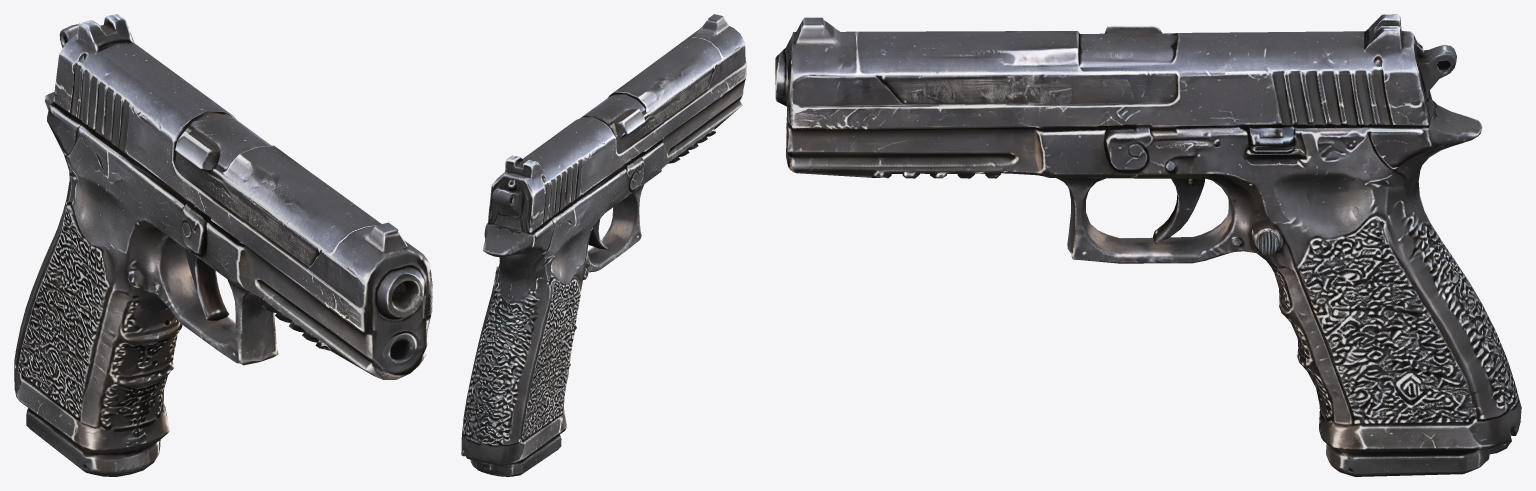
Rendered from base_basic_shaded.glb.
3 renders of one model, left to right at view 1: azimuth 30°, elevation 25°; view 2: azimuth 150°, elevation 25°; view 3: azimuth 270°, elevation 25°, orthographic. The views are drawn at different scales.
Parts seen in each view (by area): view 1: model; view 2: model; view 3: model.
Boxes of the visible parts, left/top/right/bottom form: model: left=14, top=14, right=432, bottom=476; model: left=461, top=14, right=746, bottom=476; model: left=775, top=14, right=1521, bottom=476.
Size of the model in its own units: 0.0642 by 0.3 by 0.4599.
Materials: 1 (1 with a texture image).
